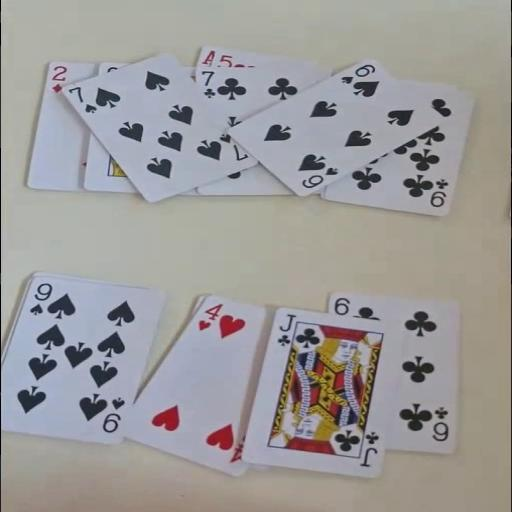2: (49, 64, 68, 92)
4: (194, 300, 224, 332)
6: (299, 165, 340, 189), (338, 62, 377, 84), (429, 405, 450, 442)
7: (216, 131, 251, 162), (66, 84, 99, 114)
9: (100, 395, 128, 434), (27, 280, 54, 317), (428, 177, 450, 208)
J: (357, 429, 381, 468), (274, 312, 297, 347)
